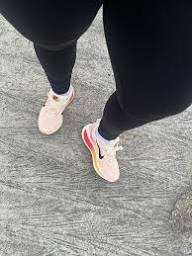nike logo: (93, 139, 105, 163)
